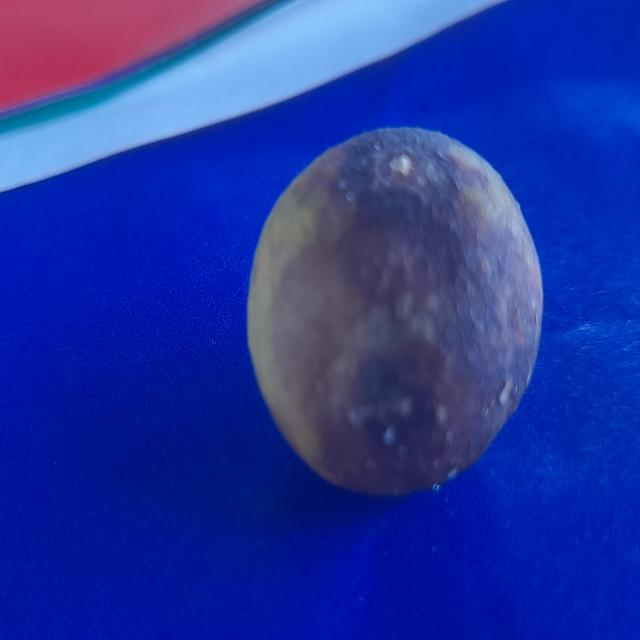black spot: (252, 119, 548, 518)
